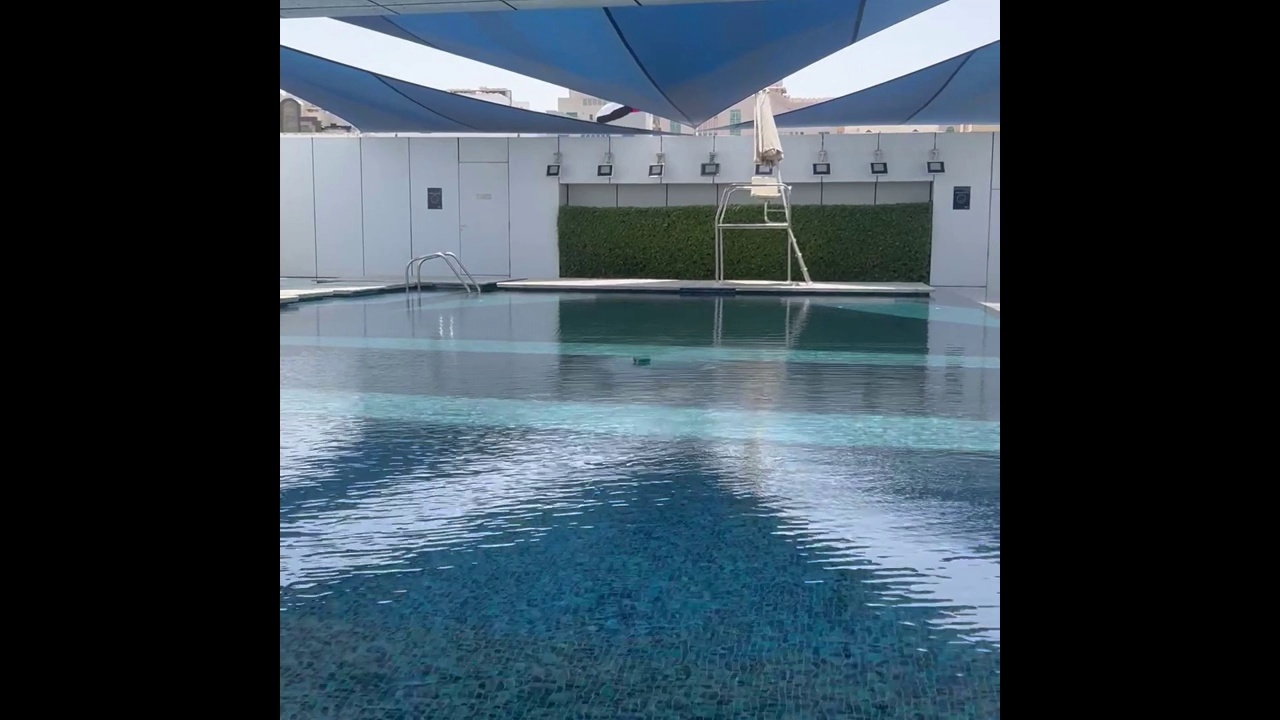debris: (629, 355, 652, 368)
